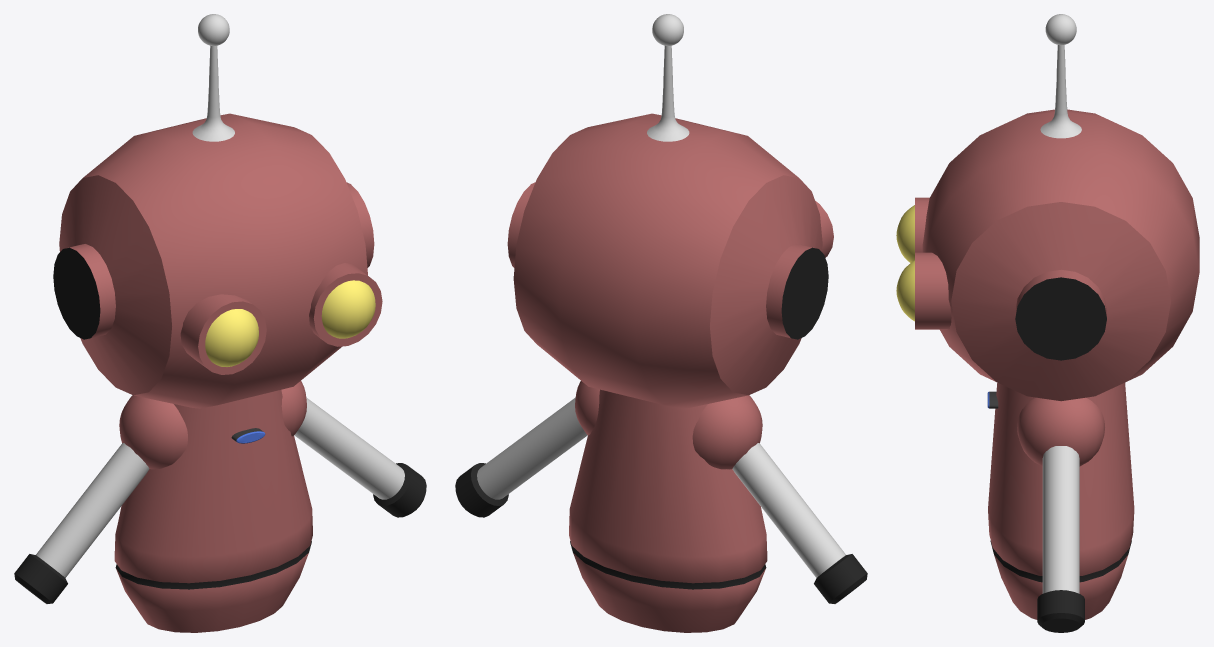
File: RedBot2.fbx
3 renders of one model, left to right at view 1: azimuth 30°, elevation 25°; view 2: azimuth 150°, elevation 25°; view 3: azimuth 270°, elevation 25°, orthographic. The views are drawn at different scales.
Visible parts, largest first — view 1: pCylinder1, pCylinder3, pCylinder4, pCylinder5, pCylinder2, pSphere4, pCylinder7, pSphere2, pSphere1, pCylinder8, pCylinder6, pSphere3 (+1 smaller); view 2: pCylinder1, pCylinder3, pCylinder4, pCylinder5, pCylinder2, pSphere4, pCylinder6, pSphere3, pSphere5; view 3: pCylinder1, pCylinder3, pCylinder5, pCylinder2, pSphere3, pCylinder8, pCylinder6, pSphere2, pSphere1, pSphere5, pCylinder7.
Part boxes in pixels (<box>): pCylinder1: <box>59,113,367,408</box>; pCylinder3: <box>114,390,312,632</box>; pCylinder4: <box>14,443,149,603</box>; pCylinder5: <box>294,397,426,517</box>; pCylinder2: <box>53,182,374,339</box>; pSphere4: <box>119,395,187,469</box>; pCylinder7: <box>180,294,266,374</box>; pSphere2: <box>321,280,375,338</box>; pSphere1: <box>205,309,258,366</box>; pCylinder8: <box>309,263,382,346</box>; pCylinder6: <box>192,45,234,141</box>; pSphere3: <box>281,381,306,436</box>; pCylinder1: <box>513,113,822,408</box>; pCylinder3: <box>569,389,767,632</box>; pCylinder4: <box>732,443,867,603</box>; pCylinder5: <box>455,397,587,517</box>; pCylinder2: <box>507,182,828,339</box>; pSphere4: <box>692,395,762,469</box>; pCylinder6: <box>647,45,689,141</box>; pSphere3: <box>575,381,599,435</box>; pSphere5: <box>652,14,683,45</box>; pCylinder1: <box>922,109,1199,401</box>; pCylinder3: <box>988,382,1134,619</box>; pCylinder5: <box>1037,446,1084,632</box>; pCylinder2: <box>1015,269,1106,360</box>; pSphere3: <box>1017,397,1104,466</box>; pCylinder8: <box>915,252,951,329</box>; pCylinder6: <box>1040,45,1081,138</box>; pSphere2: <box>896,260,914,321</box>; pSphere1: <box>896,205,914,262</box>; pSphere5: <box>1045,14,1076,45</box>; pCylinder7: <box>915,197,929,252</box>.
Bounding box in the file's own units: 3.28 × 4.7 × 2.19.
